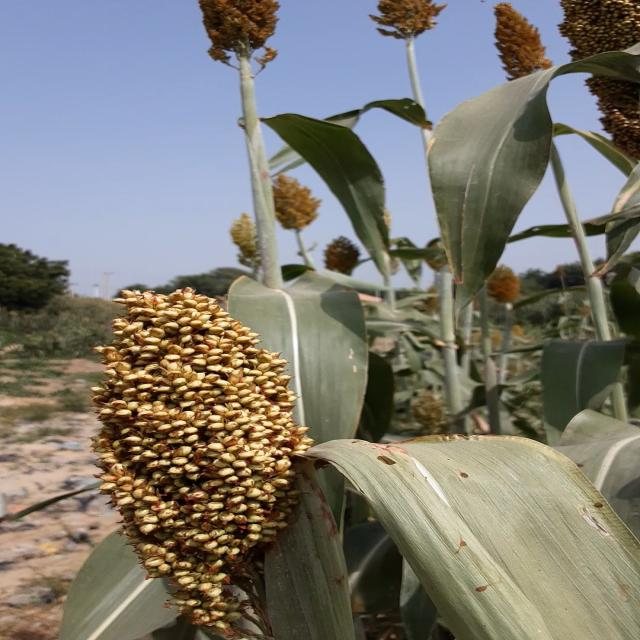UnripeSorghum: (59, 280, 331, 626)
